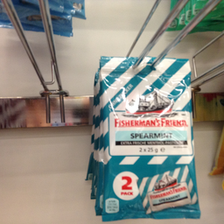candy: (101, 57, 197, 222)
